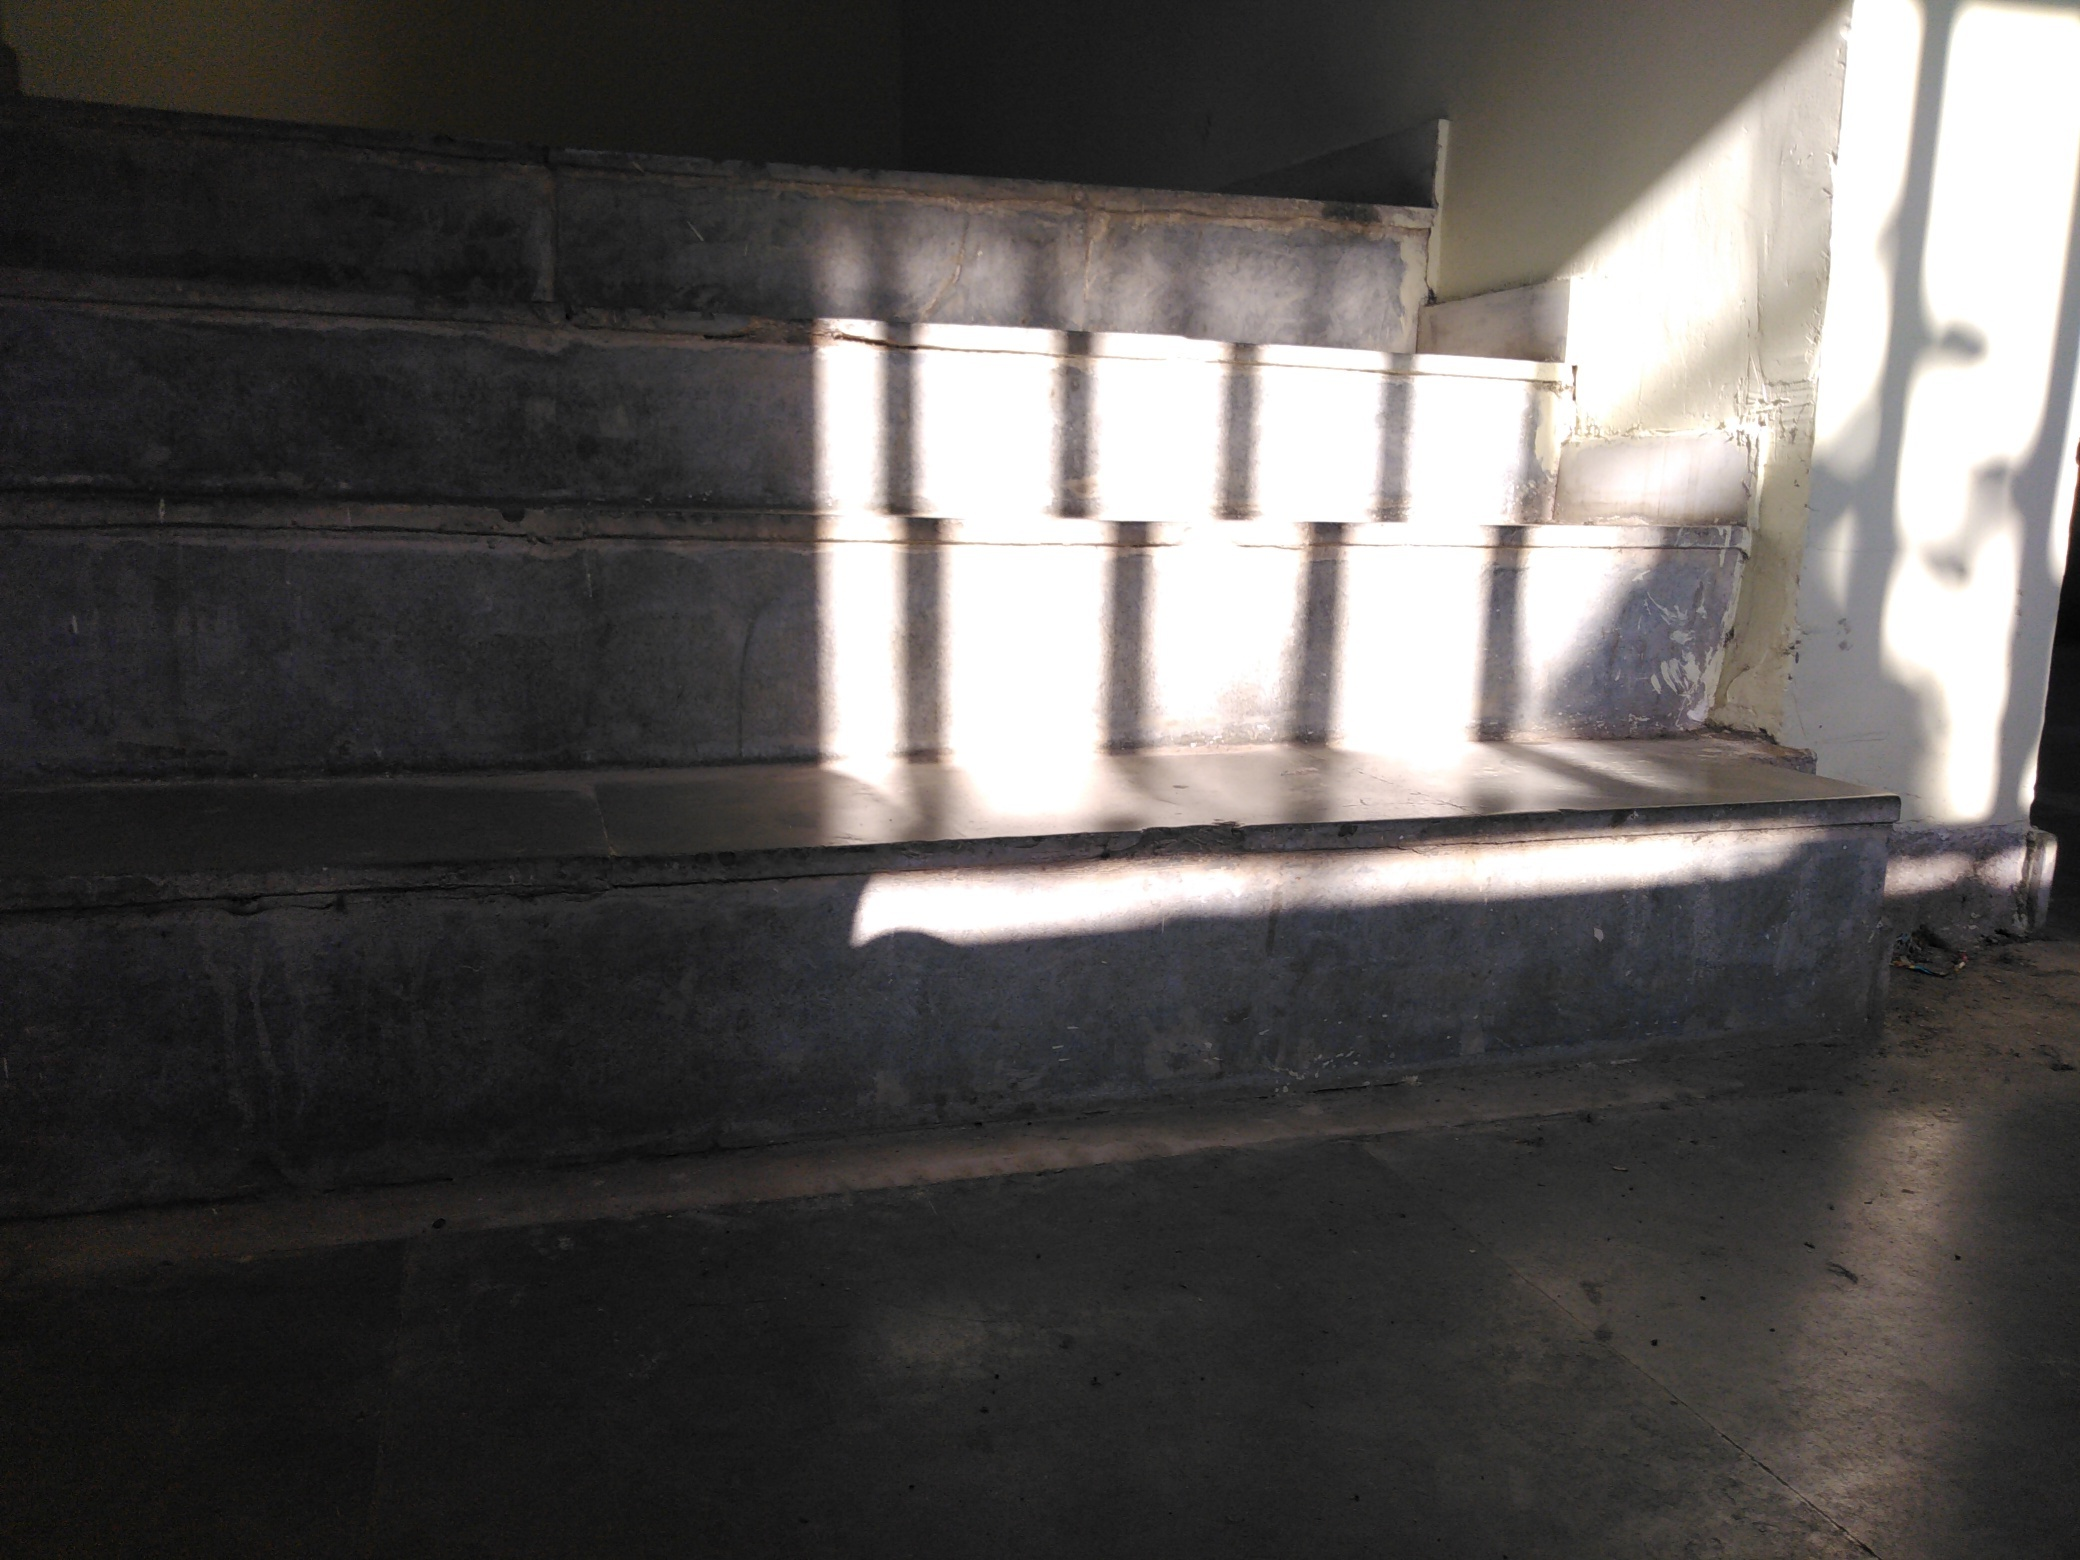stairs_up: (8, 80, 1857, 1072)
